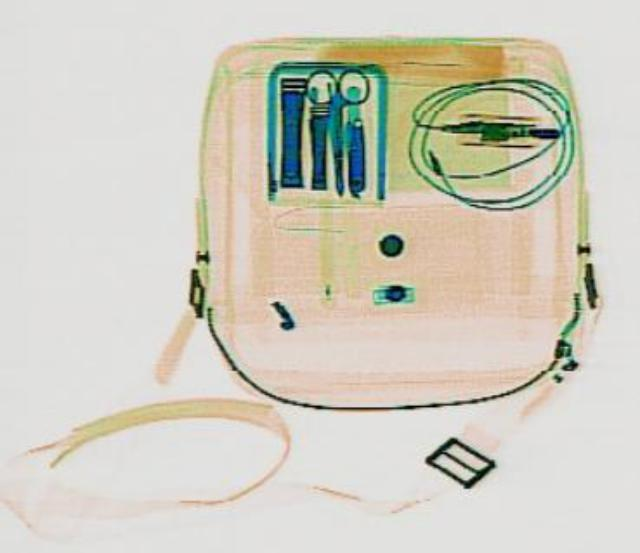Scissors: (300, 67, 372, 197)
